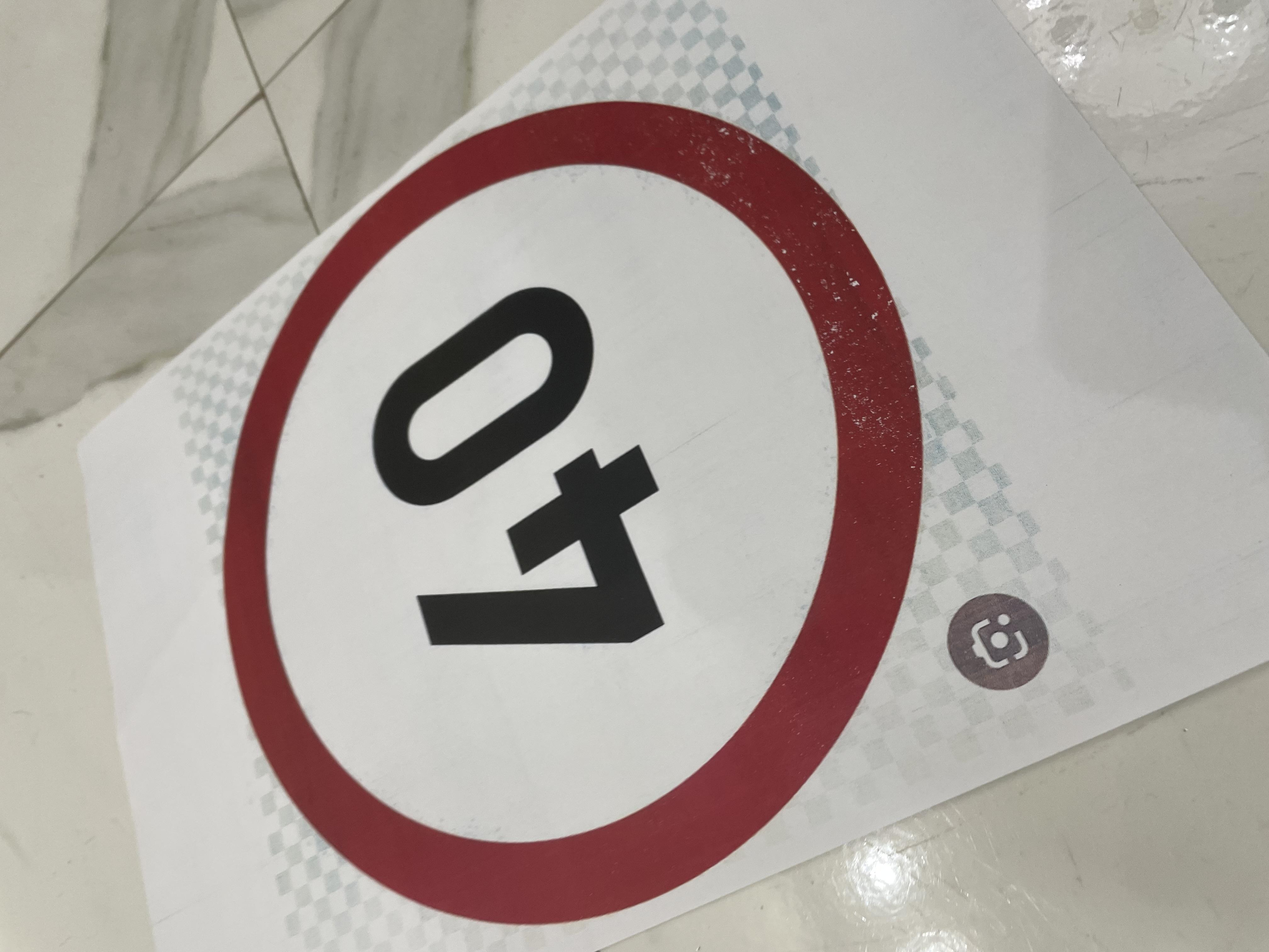40-Speed: (43, 156, 1150, 698)
